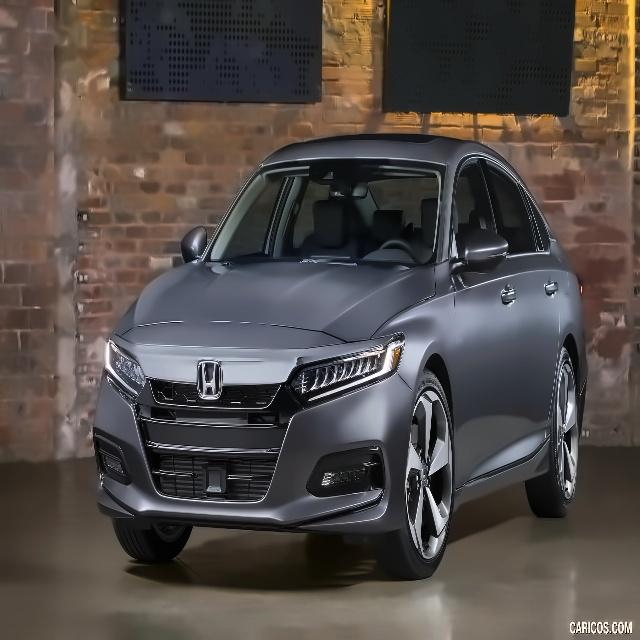Car hood: (110, 256, 438, 387)
Fender - -F-L-: (371, 257, 455, 454)
Fender - -R-L-: (559, 280, 582, 368)
Front bumper: (86, 374, 420, 538)
Headlight - -L-: (283, 330, 408, 411)
Headlight - -R-: (99, 336, 149, 411)
Passenger-s door - -F-L-: (455, 143, 518, 492)
Passenger-s door - -R-L-: (488, 144, 563, 483)
Rear bumper: (569, 370, 599, 448)
Rear light - -L-: (573, 265, 591, 300)
Side bumper - -L-: (446, 432, 554, 517)
Side mirror - -L-: (444, 222, 513, 280)
Side mirror - -R-: (174, 217, 218, 268)
